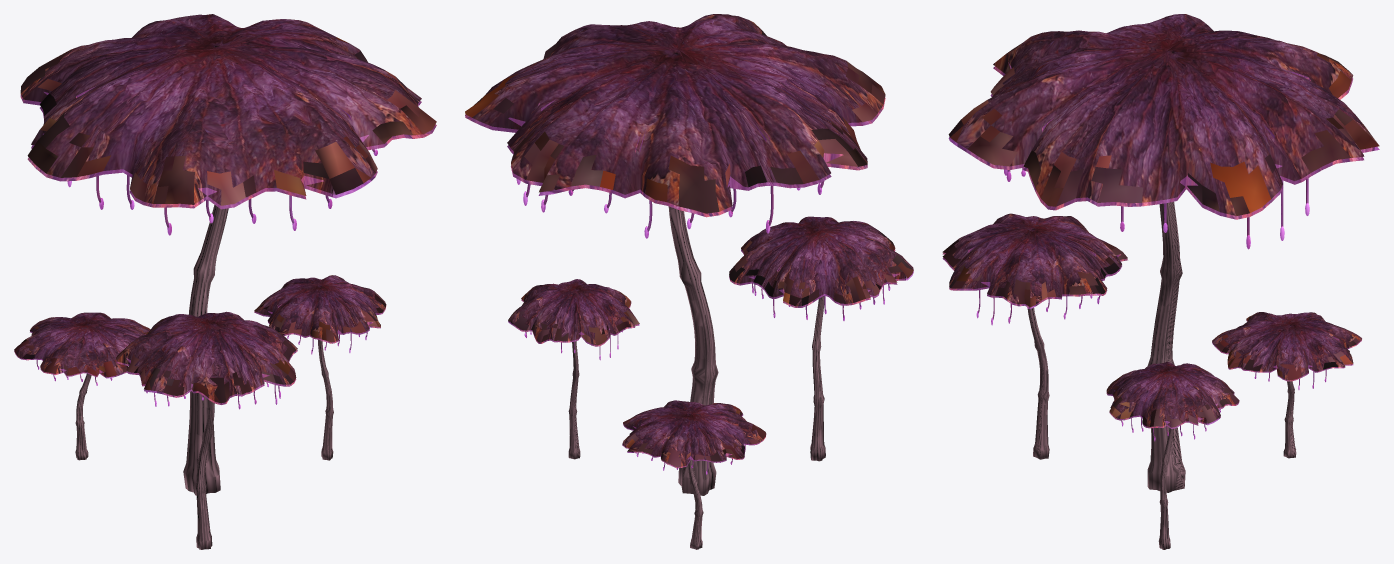
File: parasol_03.glb
3 renders of one model, left to right at view 1: azimuth 30°, elevation 25°; view 2: azimuth 150°, elevation 25°; view 3: azimuth 270°, elevation 25°, orthographic. The views are drawn at different scales.
Visible parts, largest first — view 1: export; view 2: export; view 3: export.
Boxes of the visible parts, left/top/right/bottom form: export: left=14, top=14, right=436, bottom=549; export: left=465, top=14, right=913, bottom=549; export: left=942, top=14, right=1379, bottom=549.
Size of the model in its own units: 2.66 by 3.07 by 2.74.
Materials: 5 (5 with a texture image).
